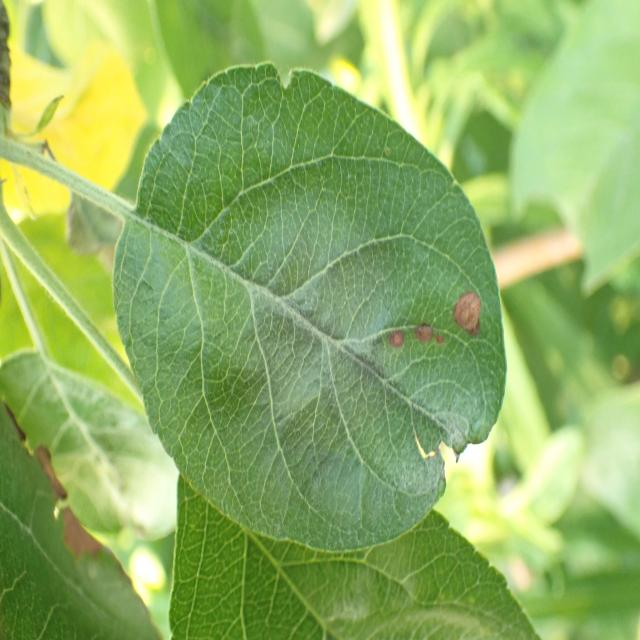Black Rot: (403, 307, 458, 363), (446, 278, 494, 342), (373, 295, 408, 365)
